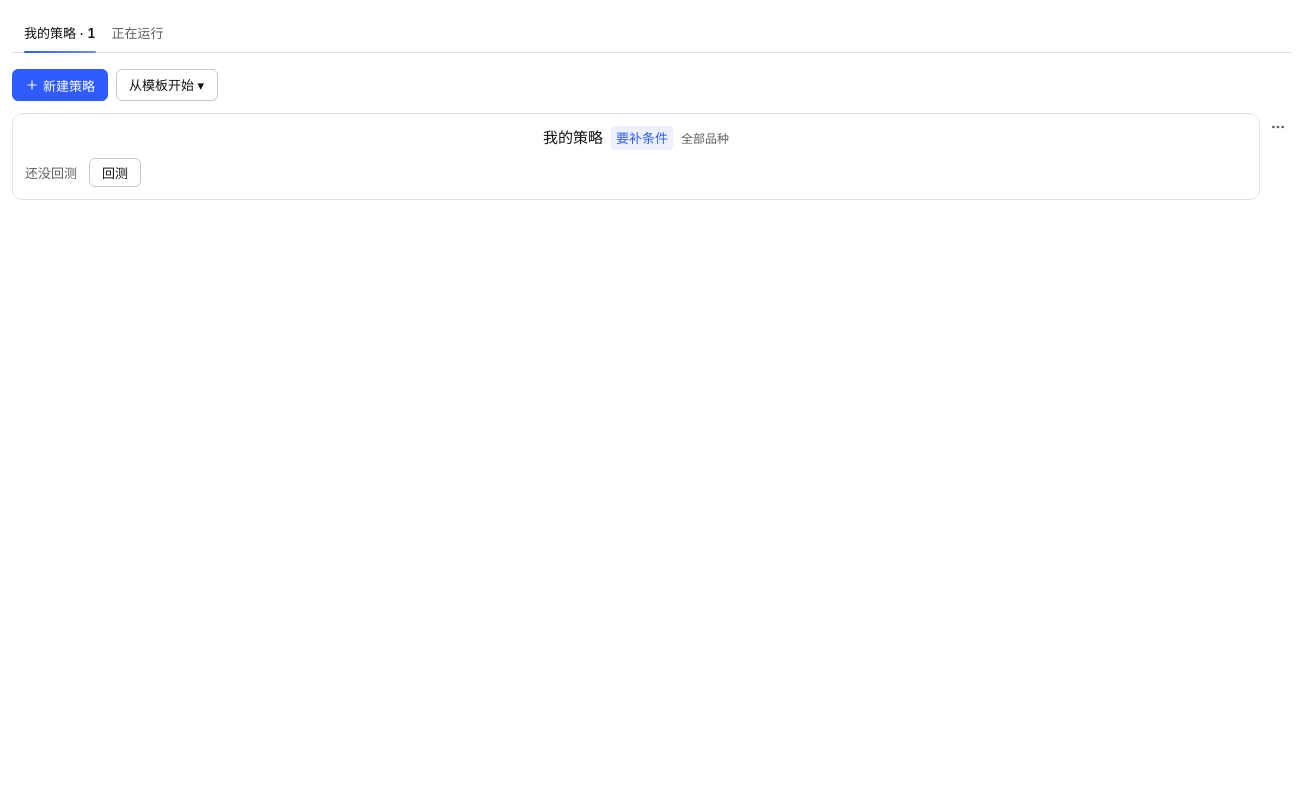
Test: a strategy with open questions is 要补条件 in 我的策略 and its 结果页 offers 完善策略 instead of 回测 / 上线
This screenshot has width=1304, height=812.
Click the button with aria-label "我的策略 · 要补条件": (636, 138) x1=25 y1=126 x2=1247 y2=150
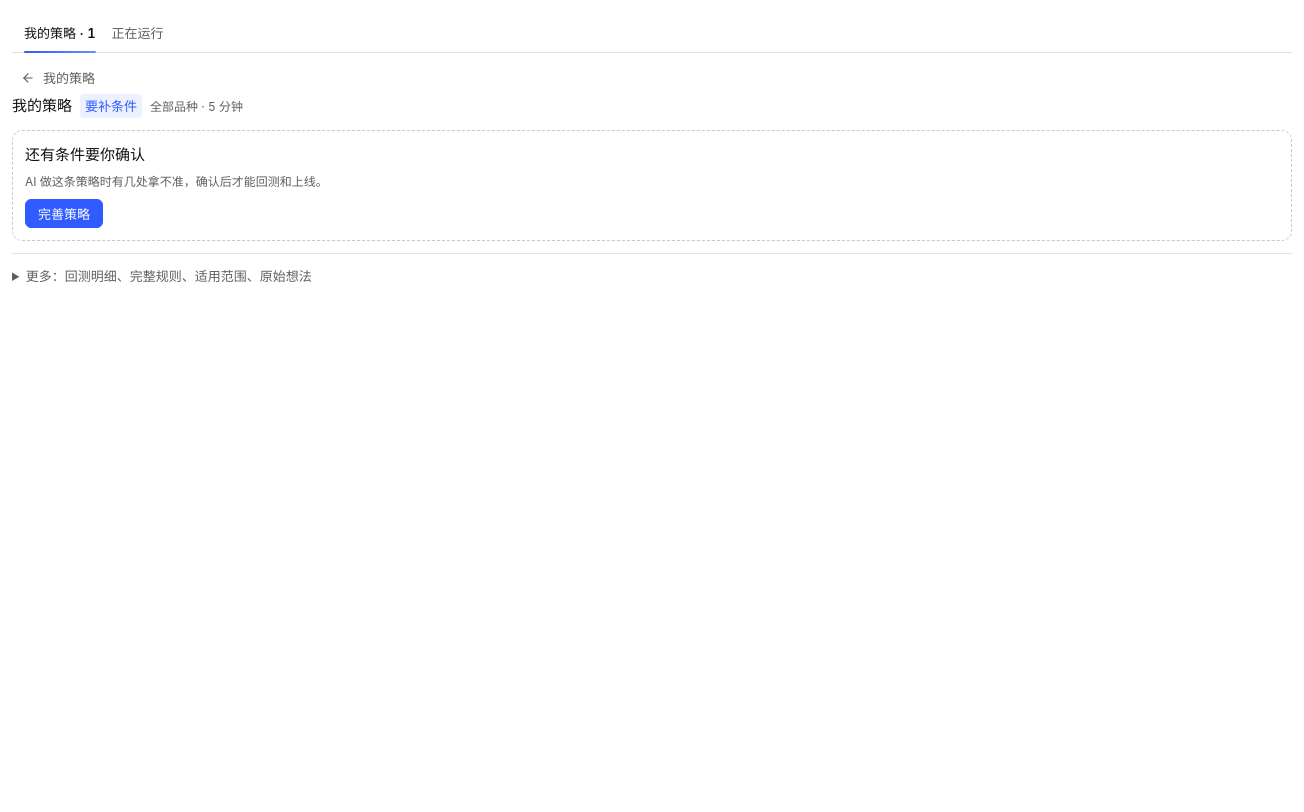
Check: the button "上线运行" is not shown
Check: the button with aria-label "返回我的策略" is shown, box x1=12 y1=65 x2=104 y2=90
Note: 完善策略 opens the 策略编辑卡 on it, the questions in the card.
Click the button "完善策略": (64, 214) x1=25 y1=199 x2=103 y2=228
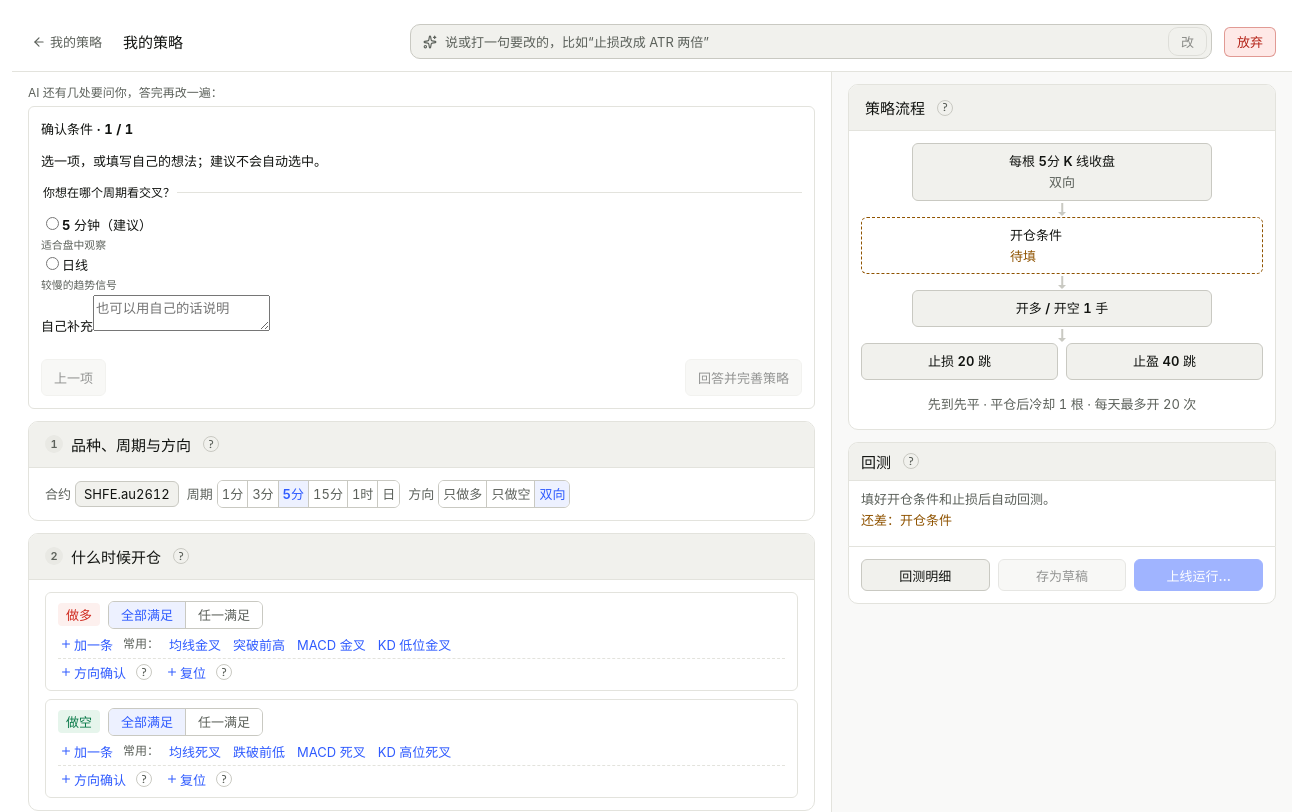
Check: the text "你想在哪个周期看交叉？" is shown, box x1=41 y1=183 x2=177 y2=202
